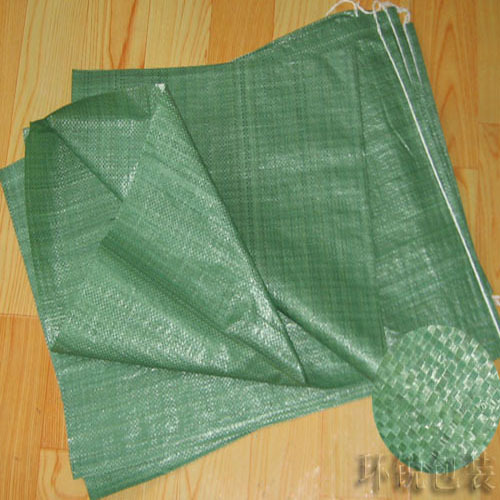塑料袋: (0, 15, 500, 477)
